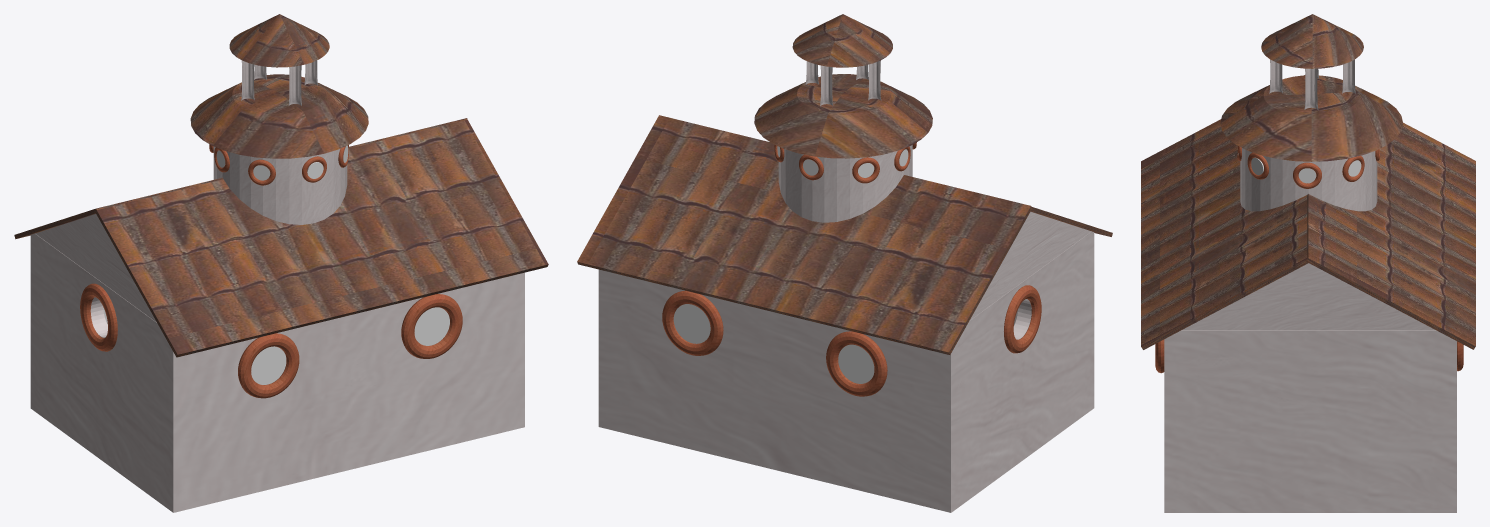
File: nuovomuondonuovo.gltf
3 renders of one model, left to right at view 1: azimuth 30°, elevation 25°; view 2: azimuth 150°, elevation 25°; view 3: azimuth 270°, elevation 25°, orthographic. The views are drawn at different scales.
Parts seen in each view (by area): view 1: Main_Cube.009, Roof_segment_2_Cube.001, middleroof_Cone, Tower_Cylinder.001, TriangleRoof_Cube.010, toproof_Cone.001, rightsidewindow.000_Torus.005, rightsidewindow.001_Torus.003, frontwindow_Torus.006, Roof_segment_Cube, WindowDarkness.001_Cylinder.002, WindowDarkness_Cylinder; view 2: Main_Cube.009, Roof_segment_Cube, middleroof_Cone, Tower_Cylinder.001, TriangleRoof_Cube.010, toproof_Cone.001, leftsidewindow_Torus.008, leftsidewindow1_Torus.007, frontwindow_Torus.006, WindowDarkness.002_Cylinder.003, WindowDarkness.003_Cylinder.004; view 3: Main_Cube.009, Roof_segment_2_Cube.001, Roof_segment_Cube, middleroof_Cone, TriangleRoof_Cube.010, Tower_Cylinder.001, toproof_Cone.001, column.001_Circle.005, towerwindow.006_Torus.011, column.003_Circle.007, column.002_Circle.006.
Part boxes in pixels (bbox=[...]): Main_Cube.009: bbox=[30, 233, 524, 512]; Roof_segment_2_Cube.001: bbox=[95, 119, 548, 357]; middleroof_Cone: bbox=[190, 74, 368, 158]; Tower_Cylinder.001: bbox=[213, 146, 347, 224]; TriangleRoof_Cube.010: bbox=[35, 214, 156, 322]; toproof_Cone.001: bbox=[229, 14, 329, 67]; rightsidewindow.000_Torus.005: bbox=[238, 333, 299, 398]; rightsidewindow.001_Torus.003: bbox=[401, 294, 462, 358]; frontwindow_Torus.006: bbox=[80, 283, 117, 351]; Roof_segment_Cube: bbox=[14, 118, 467, 239]; WindowDarkness.001_Cylinder.002: bbox=[414, 307, 449, 345]; WindowDarkness_Cylinder: bbox=[251, 346, 286, 384]; Main_Cube.009: bbox=[598, 231, 1094, 512]; Roof_segment_Cube: bbox=[577, 115, 1031, 354]; middleroof_Cone: bbox=[754, 74, 932, 158]; Tower_Cylinder.001: bbox=[778, 145, 912, 222]; TriangleRoof_Cube.010: bbox=[969, 211, 1091, 320]; toproof_Cone.001: bbox=[792, 14, 892, 67]; leftsidewindow_Torus.008: bbox=[826, 331, 887, 396]; leftsidewindow1_Torus.007: bbox=[662, 290, 723, 355]; frontwindow_Torus.006: bbox=[1004, 285, 1041, 353]; WindowDarkness.002_Cylinder.003: bbox=[673, 304, 710, 343]; WindowDarkness.003_Cylinder.004: bbox=[838, 344, 874, 383]; Main_Cube.009: bbox=[1164, 330, 1456, 512]; Roof_segment_2_Cube.001: bbox=[1141, 75, 1308, 349]; Roof_segment_Cube: bbox=[1306, 122, 1475, 349]; middleroof_Cone: bbox=[1220, 75, 1402, 161]; TriangleRoof_Cube.010: bbox=[1182, 263, 1435, 330]; Tower_Cylinder.001: bbox=[1240, 148, 1377, 211]; toproof_Cone.001: bbox=[1261, 14, 1363, 68]; column.001_Circle.005: bbox=[1304, 68, 1318, 110]; towerwindow.006_Torus.011: bbox=[1293, 162, 1321, 188]; column.003_Circle.007: bbox=[1269, 59, 1282, 93]; column.002_Circle.006: bbox=[1342, 59, 1355, 93].
Size of the model in its own units: 3.84 by 3.98 by 2.93.
Materials: 6 (5 with a texture image).
